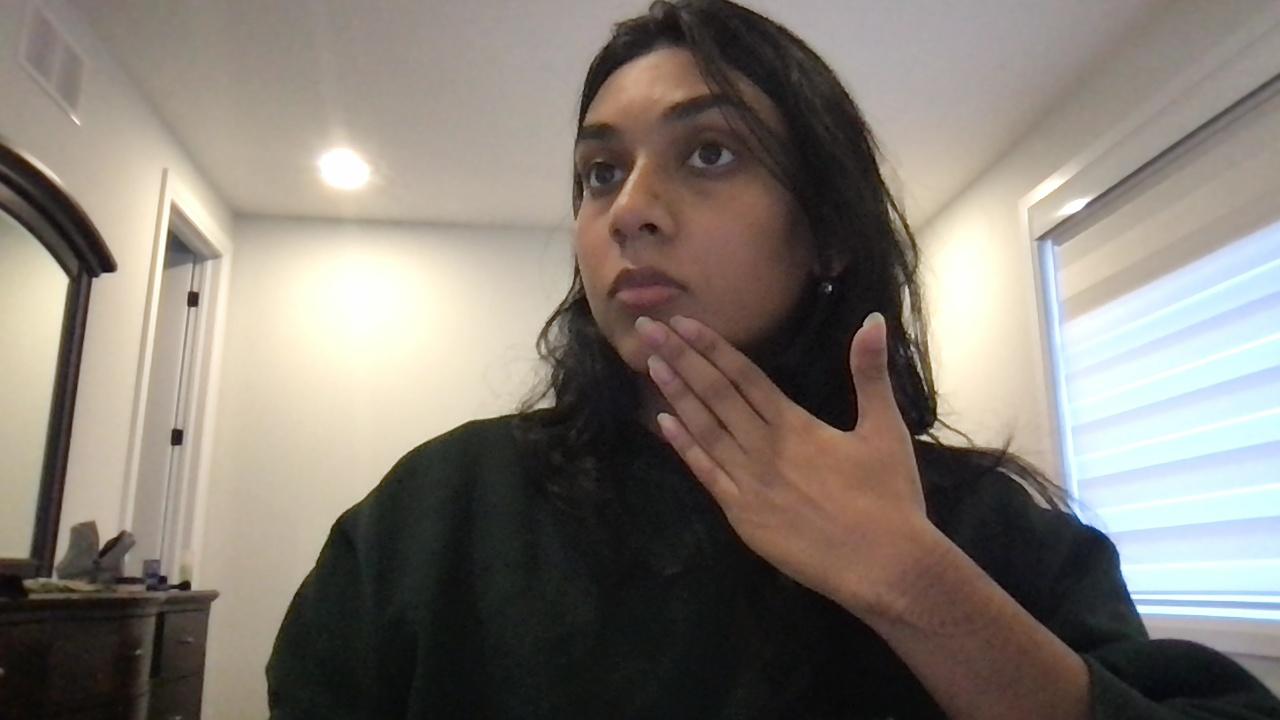Thank You: (626, 312, 959, 615)
